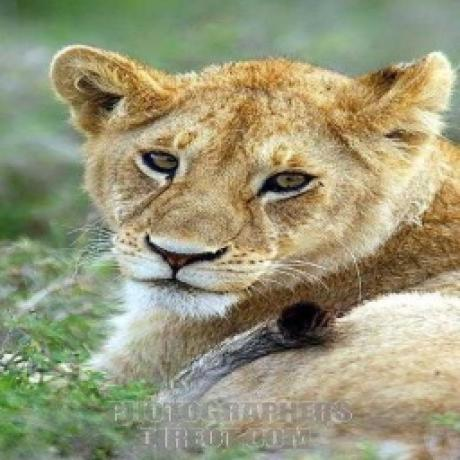Lion: (50, 45, 460, 460)
